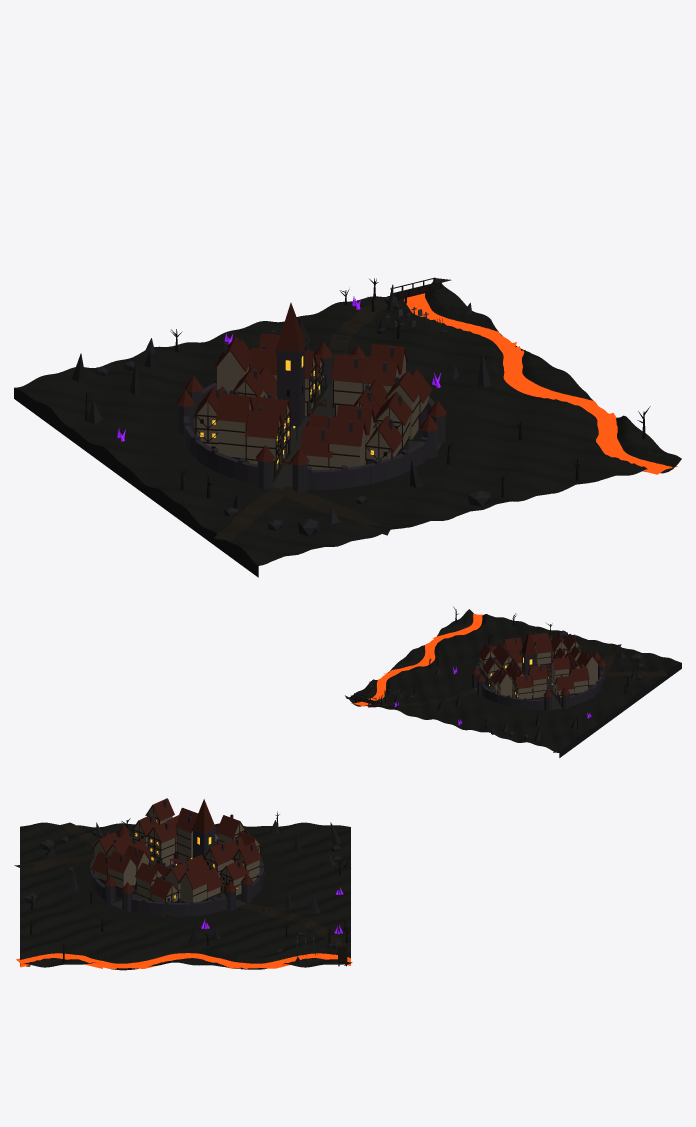
File: chunk-3-4.glb
The picture shows the model from 3 angles, top to bottom: view 1: azimuth 30°, elevation 25°; view 2: azimuth 150°, elevation 25°; view 3: azimuth 270°, elevation 25°; orthographic projection. The views are drawn at different scales.
Parts seen in each view (by area): view 1: Ash_Ground, Roof_Tile, Castle_Stone, Plaster, Lava, Dark_Rock, Cliff_Rock, Dirt_Road, Timber, Dead_Wood, Cobblestone; view 2: Ash_Ground, Roof_Tile, Castle_Stone, Plaster, Lava, Dark_Rock, Cliff_Rock, Dirt_Road, Timber, Dead_Wood; view 3: Ash_Ground, Roof_Tile, Plaster, Castle_Stone, Lava, Dark_Rock, Dirt_Road, Timber, Dead_Wood.
Part boxes in pixels (x1,y1,x2,y2): Ash_Ground: [14, 281, 681, 565]; Roof_Tile: [176, 302, 446, 465]; Castle_Stone: [178, 330, 445, 491]; Plaster: [196, 351, 429, 475]; Lava: [404, 293, 677, 474]; Dark_Rock: [72, 284, 491, 536]; Cliff_Rock: [14, 388, 258, 577]; Dirt_Road: [213, 278, 451, 540]; Timber: [195, 362, 429, 475]; Dead_Wood: [85, 277, 650, 498]; Cobblestone: [193, 380, 441, 488]; Ash_Ground: [348, 609, 681, 752]; Roof_Tile: [471, 630, 605, 697]; Castle_Stone: [472, 632, 605, 710]; Plaster: [479, 641, 597, 698]; Lava: [351, 614, 483, 706]; Dark_Rock: [368, 630, 644, 741]; Cliff_Rock: [559, 663, 681, 757]; Dirt_Road: [345, 644, 666, 707]; Timber: [479, 641, 598, 699]; Dead_Wood: [350, 606, 630, 729]; Ash_Ground: [20, 822, 350, 970]; Roof_Tile: [91, 798, 262, 899]; Plaster: [93, 806, 259, 903]; Castle_Stone: [90, 800, 263, 916]; Lava: [16, 953, 350, 969]; Dark_Rock: [23, 820, 350, 964]; Dirt_Road: [14, 822, 352, 965]; Timber: [93, 806, 260, 903]; Dead_Wood: [24, 811, 350, 966].
Size of the model in its own units: 161 by 24.4 by 161.
